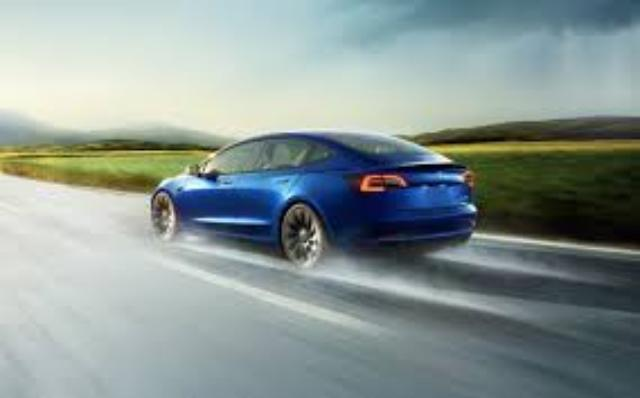tesla: (150, 131, 478, 271)
